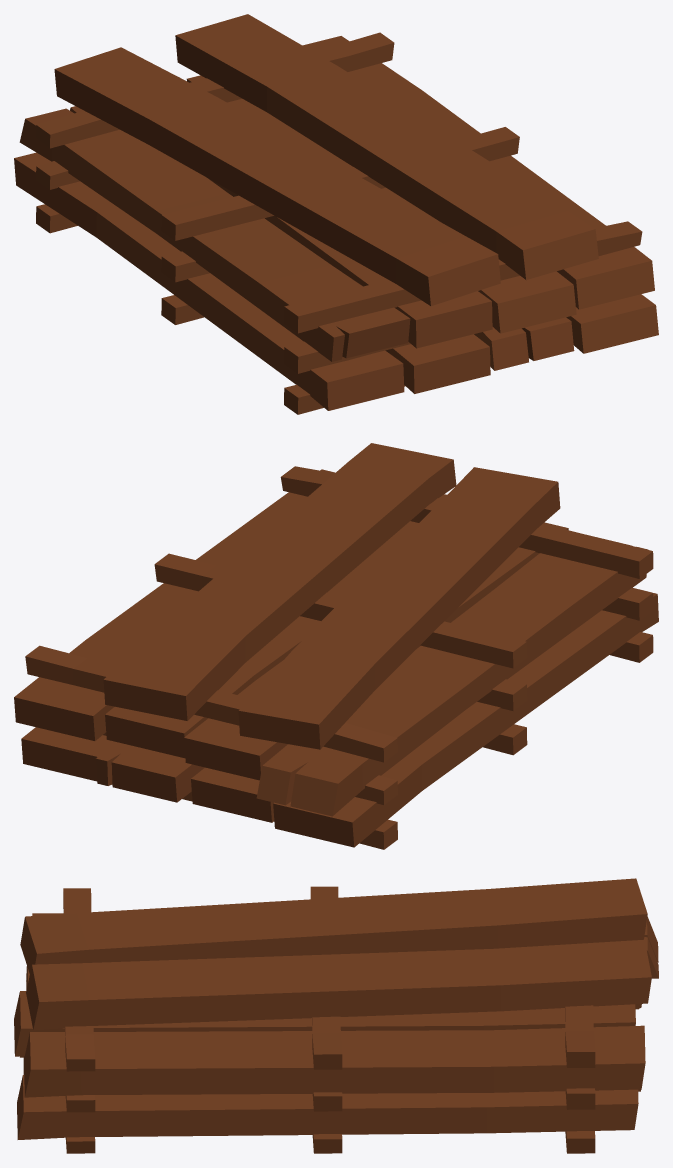
File: Planks2.fbx
3 renders of one model, top to bottom at view 1: azimuth 30°, elevation 25°; view 2: azimuth 150°, elevation 25°; view 3: azimuth 270°, elevation 25°, orthographic. The views are drawn at different scales.
Parts seen in each view (by area): view 1: Plankpile_02_small; view 2: Plankpile_02_small; view 3: Plankpile_02_small.
Boxes of the visible parts, x1=… form: Plankpile_02_small: x1=14, y1=14, x2=658, y2=414; Plankpile_02_small: x1=14, y1=443, x2=658, y2=849; Plankpile_02_small: x1=14, y1=878, x2=658, y2=1153.
Size of the model in its own units: 84.15 by 29.77 by 135.
